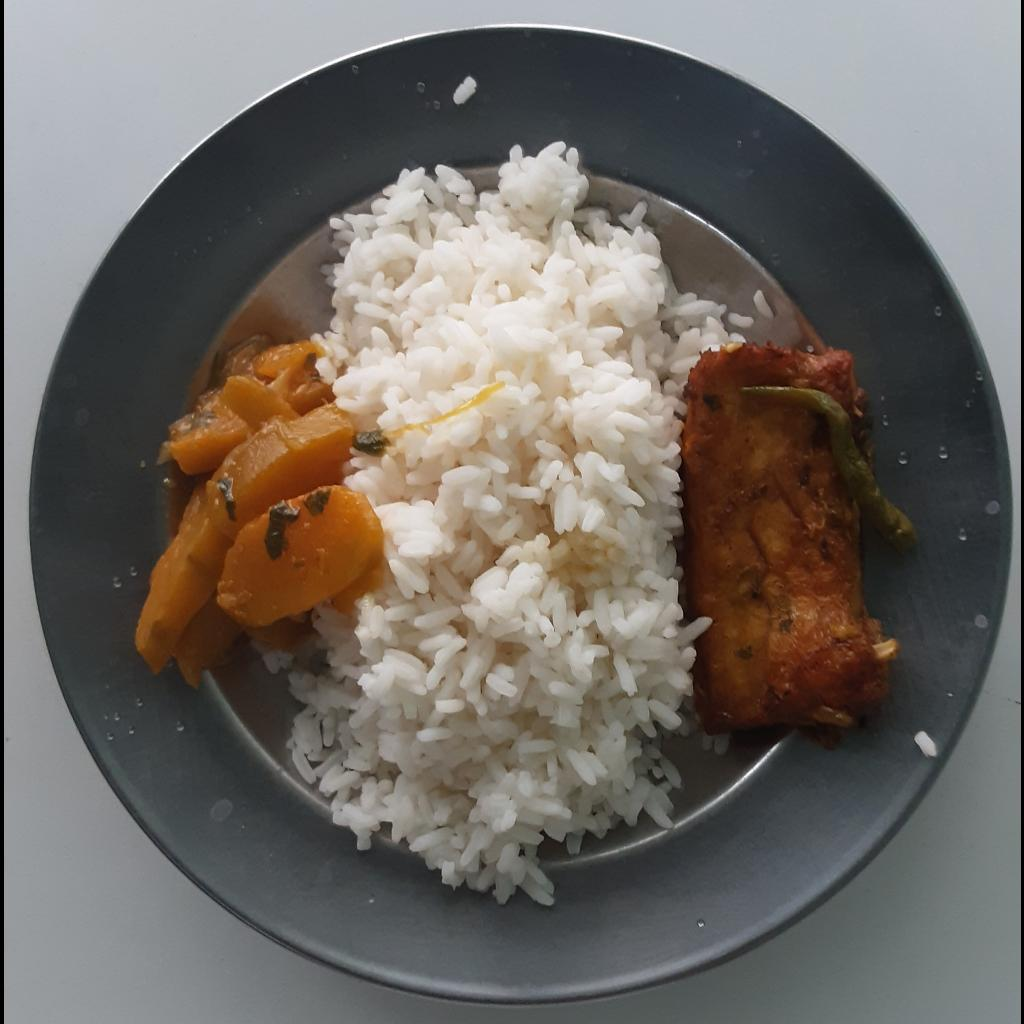fish: (679, 342, 917, 737)
kumra-vaji: (129, 340, 395, 678)
rice: (270, 139, 772, 908)
